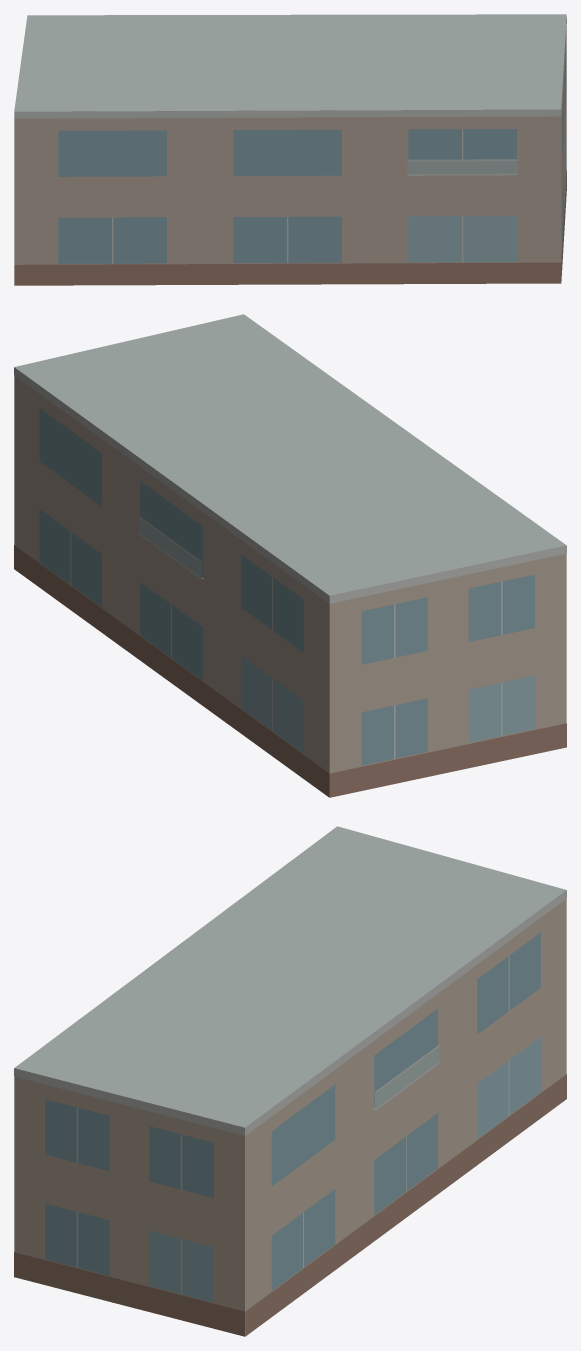
File: survey-upis-32988685.glb
3 renders of one model, top to bottom at view 1: azimuth 30°, elevation 25°; view 2: azimuth 150°, elevation 25°; view 3: azimuth 270°, elevation 25°, orthographic. The views are drawn at different scales.
Visible parts, largest first — view 1: survey-upis-32988685.tmp; view 2: survey-upis-32988685.tmp; view 3: survey-upis-32988685.tmp.
Part boxes in pixels (bbox=[...]): survey-upis-32988685.tmp: bbox=[14, 14, 566, 285]; survey-upis-32988685.tmp: bbox=[14, 314, 566, 797]; survey-upis-32988685.tmp: bbox=[14, 826, 566, 1336].
Size of the model in its own units: 18.89 by 6.1 by 14.63.
